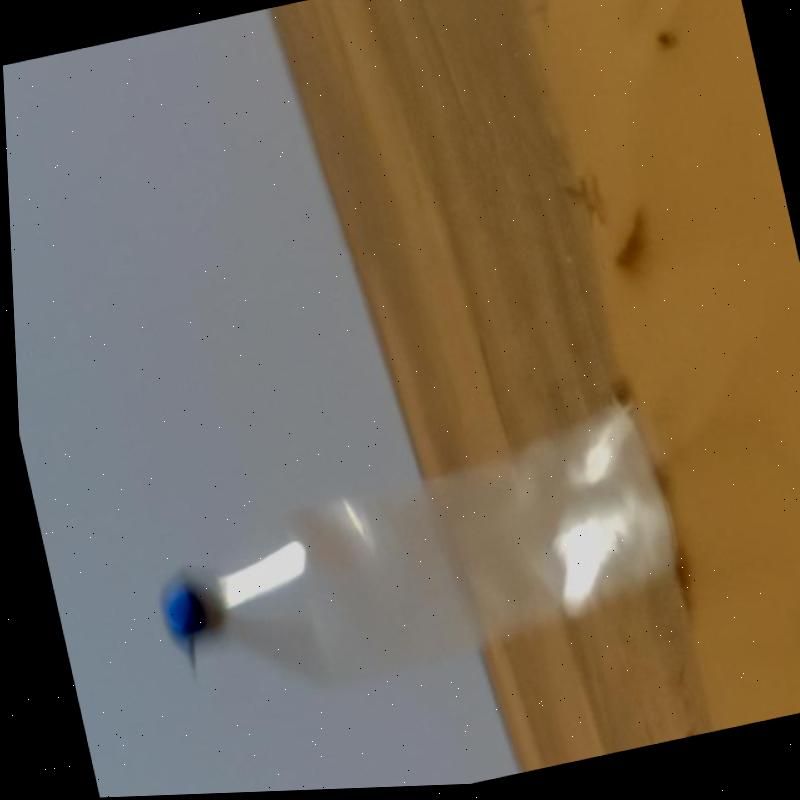botella: (134, 398, 692, 726)
